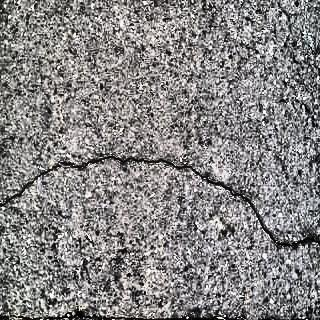crack: (0, 152, 320, 247)
